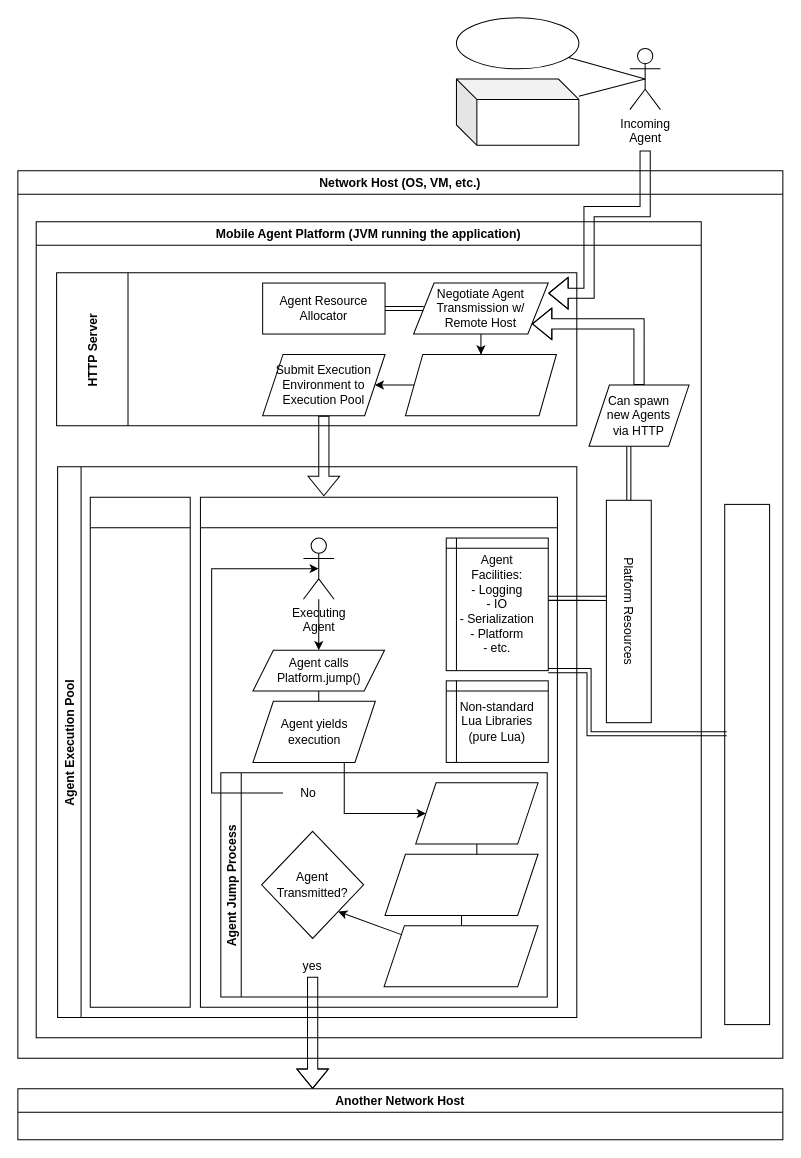
The diagram is 801 pixels wide and 1158 high, and some of its shapes have lost their labels. The shapes that lost their labels are listed below. From the top down, each one's box as (x1, y1, x2, y2) in pixels, then its label:
(455, 17, 579, 69): Serialized Agent Execution Entity
(455, 78, 579, 145): Agent Resources (treated as binary files)
(404, 353, 556, 416): Create instance of Execution Environment
(89, 496, 190, 1007): Agent Execution Environment
(199, 496, 557, 1007): Agent Execution Environment, Detailed
(724, 503, 770, 1025): Host Resources
(415, 782, 538, 844): Serialization of Agent Execution Entity
(384, 853, 538, 915): Encoding of Agent and Resources for HTTP transmission
(383, 925, 538, 987): HTTP Request to target host to begin negotiating Agent tranmission
